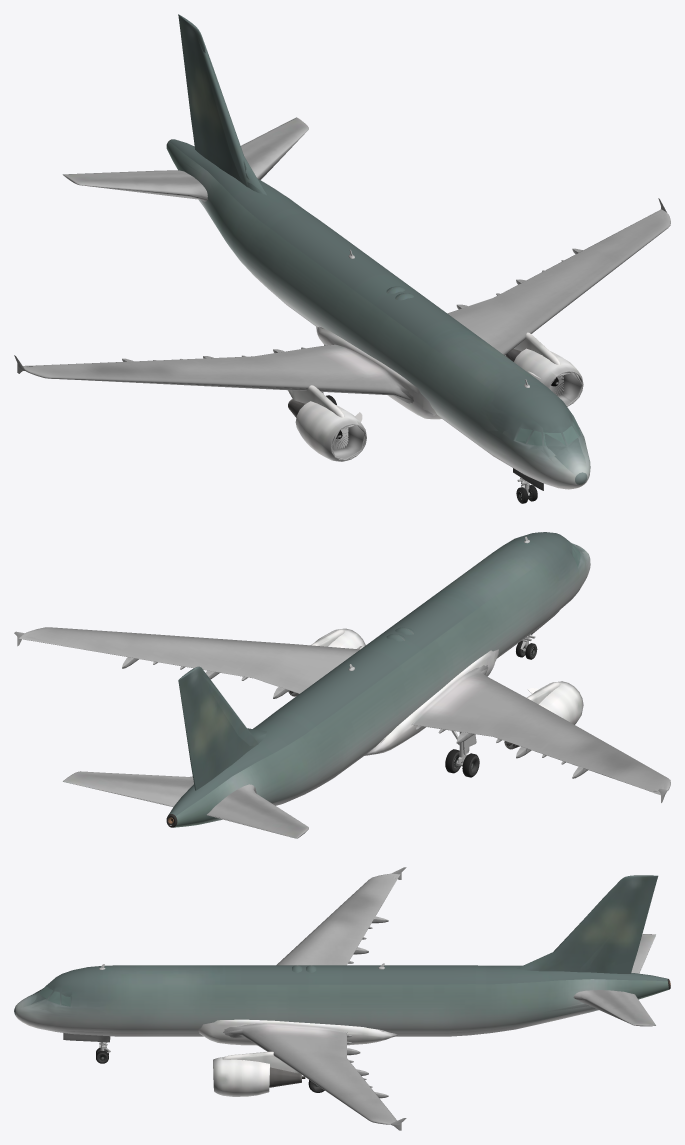
3 renders of one model, top to bottom at view 1: azimuth 30°, elevation 25°; view 2: azimuth 150°, elevation 25°; view 3: azimuth 270°, elevation 25°, orthographic. The views are drawn at different scales.
Parts seen in each view (by area): view 1: kit0, kit1, far; view 2: kit0, kit1, far; view 3: kit0, kit1, far.
Part boxes in pixels (x1,y1,x2,y2): kit0: (14, 14, 670, 503); kit1: (16, 14, 670, 500); far: (25, 35, 666, 488); kit0: (14, 532, 670, 838); kit1: (16, 537, 666, 838); far: (19, 550, 659, 838); kit0: (14, 867, 670, 1130); kit1: (22, 867, 670, 1129); far: (30, 875, 652, 1121).
Bounding box in the file's own units: 25.28 × 8.73 × 28.
Materials: 1 (1 with a texture image).
